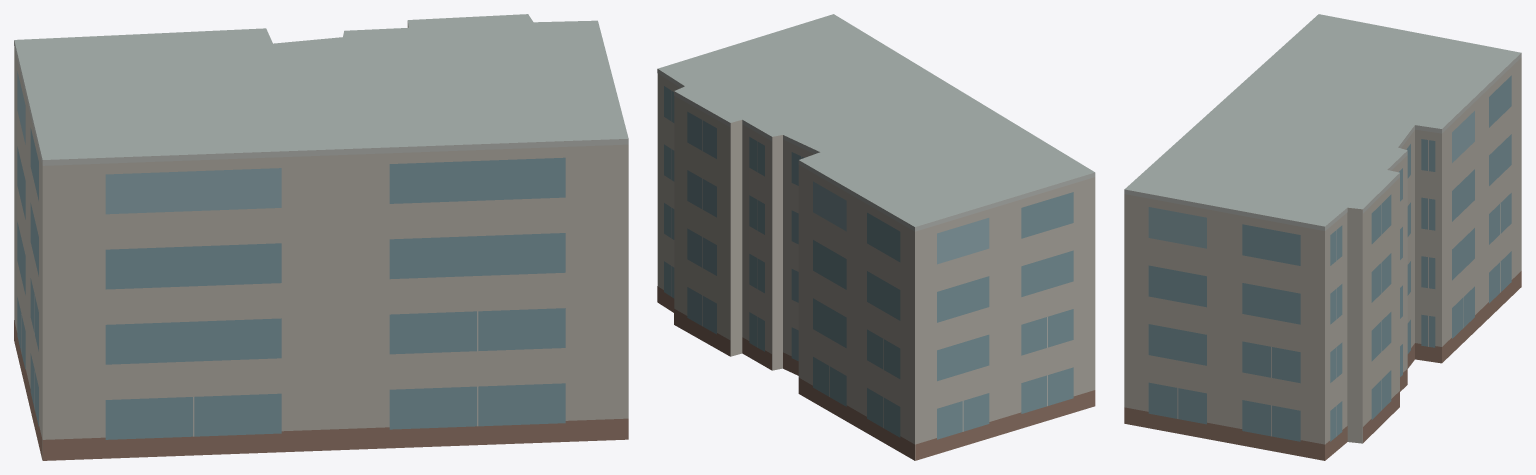
The model's file is survey-upis-32532895.glb.
The picture shows the model from 3 angles, left to right: view 1: azimuth 30°, elevation 25°; view 2: azimuth 150°, elevation 25°; view 3: azimuth 270°, elevation 25°; orthographic projection. The views are drawn at different scales.
Visible parts, largest first — view 1: survey-upis-32532895.tmp; view 2: survey-upis-32532895.tmp; view 3: survey-upis-32532895.tmp.
Part boxes in pixels (<box>): survey-upis-32532895.tmp: <box>14,14,628,460</box>; survey-upis-32532895.tmp: <box>657,14,1095,460</box>; survey-upis-32532895.tmp: <box>1124,14,1521,460</box>.
Size of the model in its own units: 24.53 by 12.6 by 19.36.
